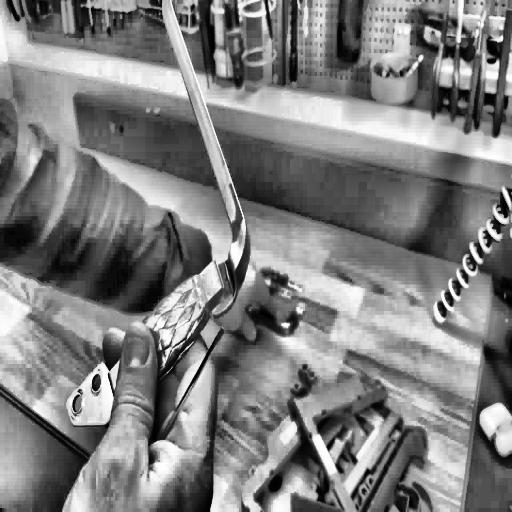busbar: (60, 0, 252, 446)
